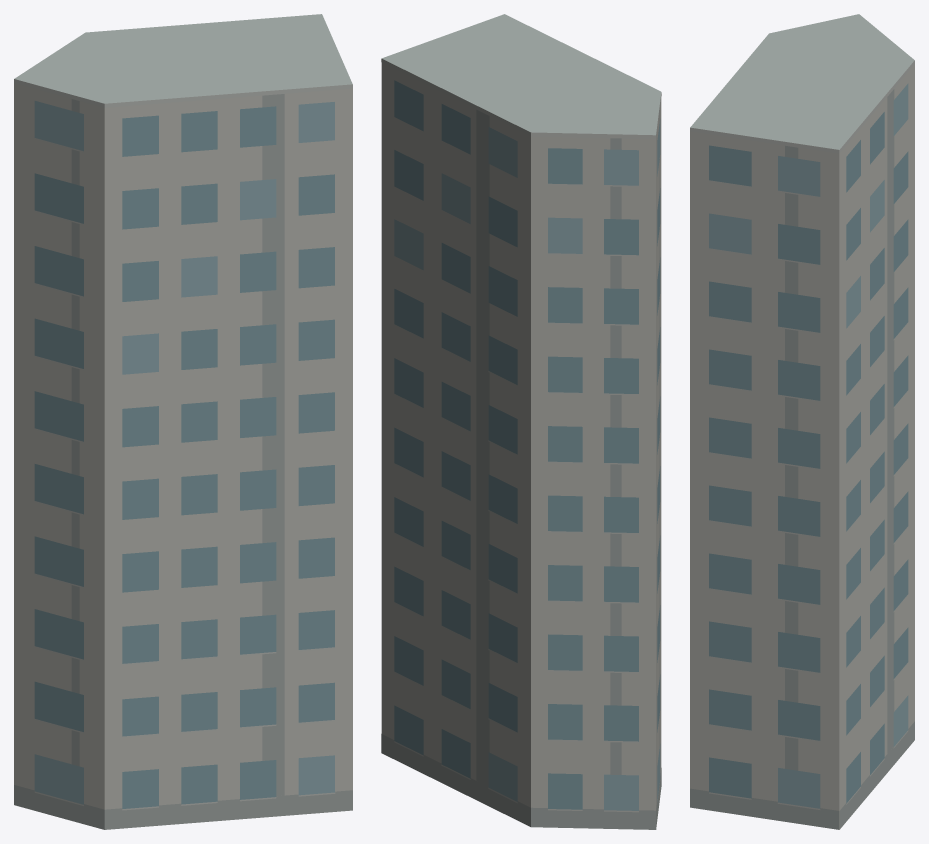
File: residential-70809e7e-39e7-487d-84f5-d21b6ca152f4.glb
The picture shows the model from 3 angles, left to right: view 1: azimuth 30°, elevation 25°; view 2: azimuth 150°, elevation 25°; view 3: azimuth 270°, elevation 25°; orthographic projection. The views are drawn at different scales.
Visible parts, largest first — view 1: residential-70809e7e-39e7-487d-84f5-d21b6ca152f4.tmp; view 2: residential-70809e7e-39e7-487d-84f5-d21b6ca152f4.tmp; view 3: residential-70809e7e-39e7-487d-84f5-d21b6ca152f4.tmp.
Part boxes in pixels (bbox=[...]): residential-70809e7e-39e7-487d-84f5-d21b6ca152f4.tmp: bbox=[14, 14, 352, 829]; residential-70809e7e-39e7-487d-84f5-d21b6ca152f4.tmp: bbox=[381, 14, 661, 829]; residential-70809e7e-39e7-487d-84f5-d21b6ca152f4.tmp: bbox=[690, 14, 914, 829].
Size of the model in its own units: 18.02 by 42 by 12.59.
